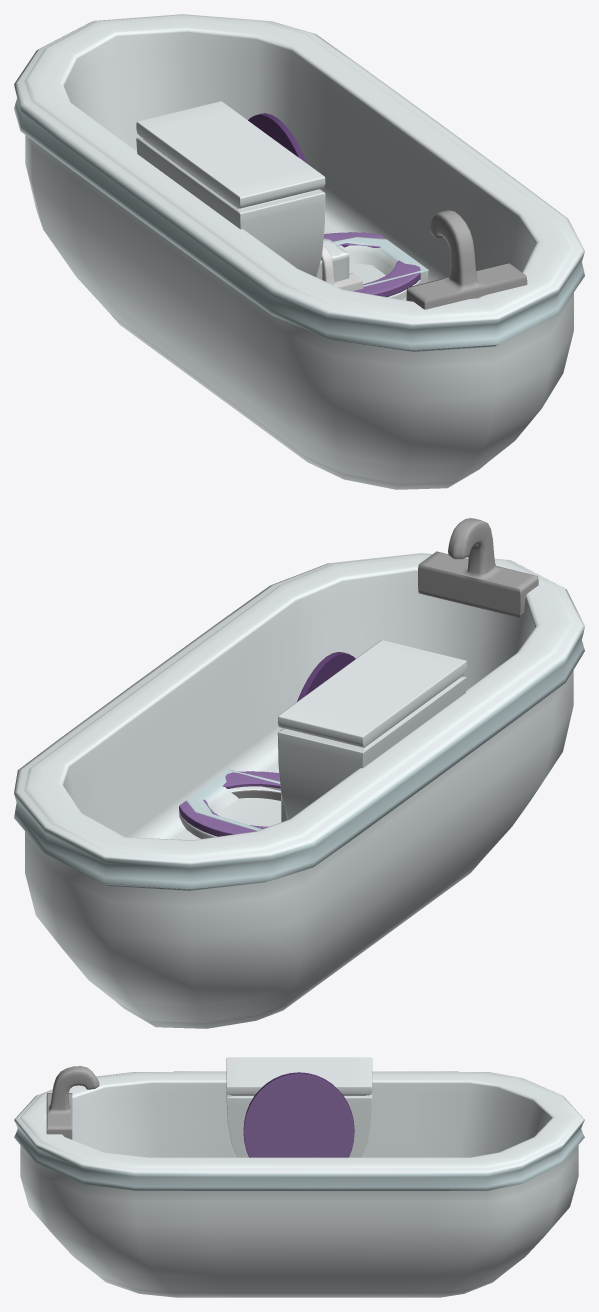
Rendered from banyo_objeler.fbx.
The picture shows the model from 3 angles, top to bottom: view 1: azimuth 30°, elevation 25°; view 2: azimuth 150°, elevation 25°; view 3: azimuth 270°, elevation 25°; orthographic projection. The views are drawn at different scales.
Visible parts, largest first — view 1: polySurface11, klozet, polySurface12, polySurface9; view 2: polySurface11, klozet, polySurface12; view 3: polySurface11, klozet.
Boxes of the visible parts, x1=… form: polySurface11: x1=14, y1=14, x2=584, y2=489; klozet: x1=136, y1=101, x2=420, y2=299; polySurface12: x1=321, y1=236, x2=428, y2=291; polySurface9: x1=316, y1=238, x2=349, y2=281; polySurface11: x1=14, y1=518, x2=584, y2=1028; klozet: x1=179, y1=640, x2=466, y2=838; polySurface12: x1=186, y1=769, x2=280, y2=830; polySurface11: x1=14, y1=1066, x2=584, y2=1297; klozet: x1=226, y1=1057, x2=372, y2=1157.
Size of the model in its own units: 5.02 by 4.55 by 11.85.
